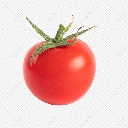tomato: (23, 38, 98, 105)
